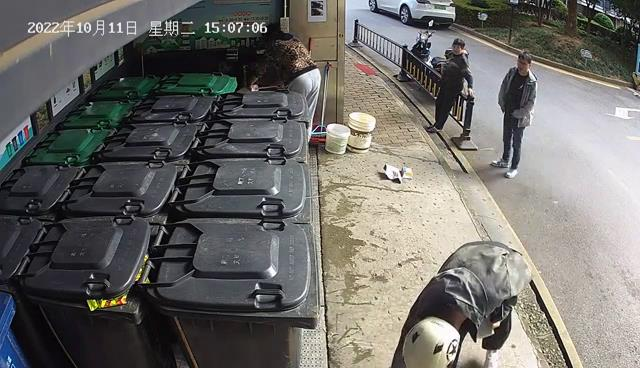person: (384, 235, 533, 368), (243, 22, 323, 150), (484, 48, 542, 182), (424, 35, 477, 134)
zhizhipin: (381, 161, 404, 186), (400, 163, 416, 181)
